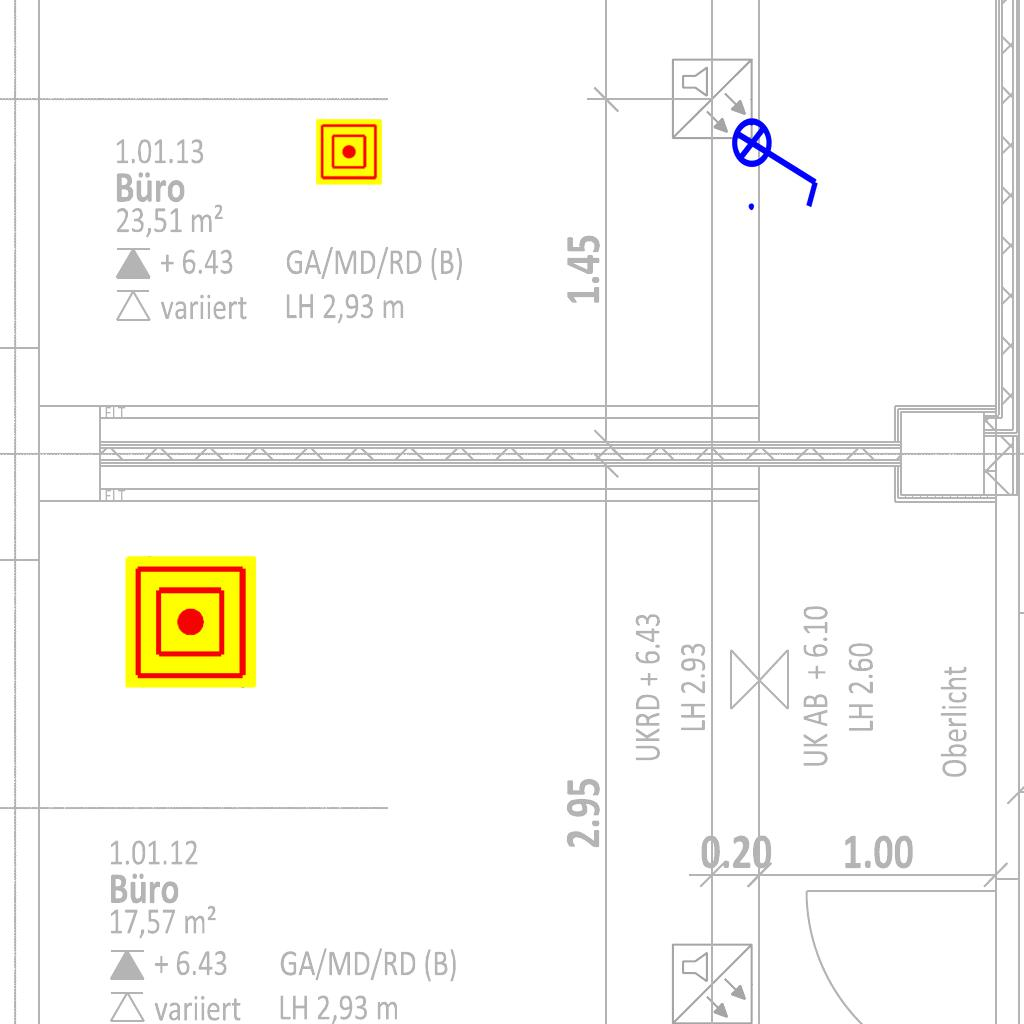Ausschalter_beleuchtet: (730, 104, 826, 216)
NAM-Nichtautomatischer_Melder: (125, 556, 257, 688), (316, 119, 382, 185)
